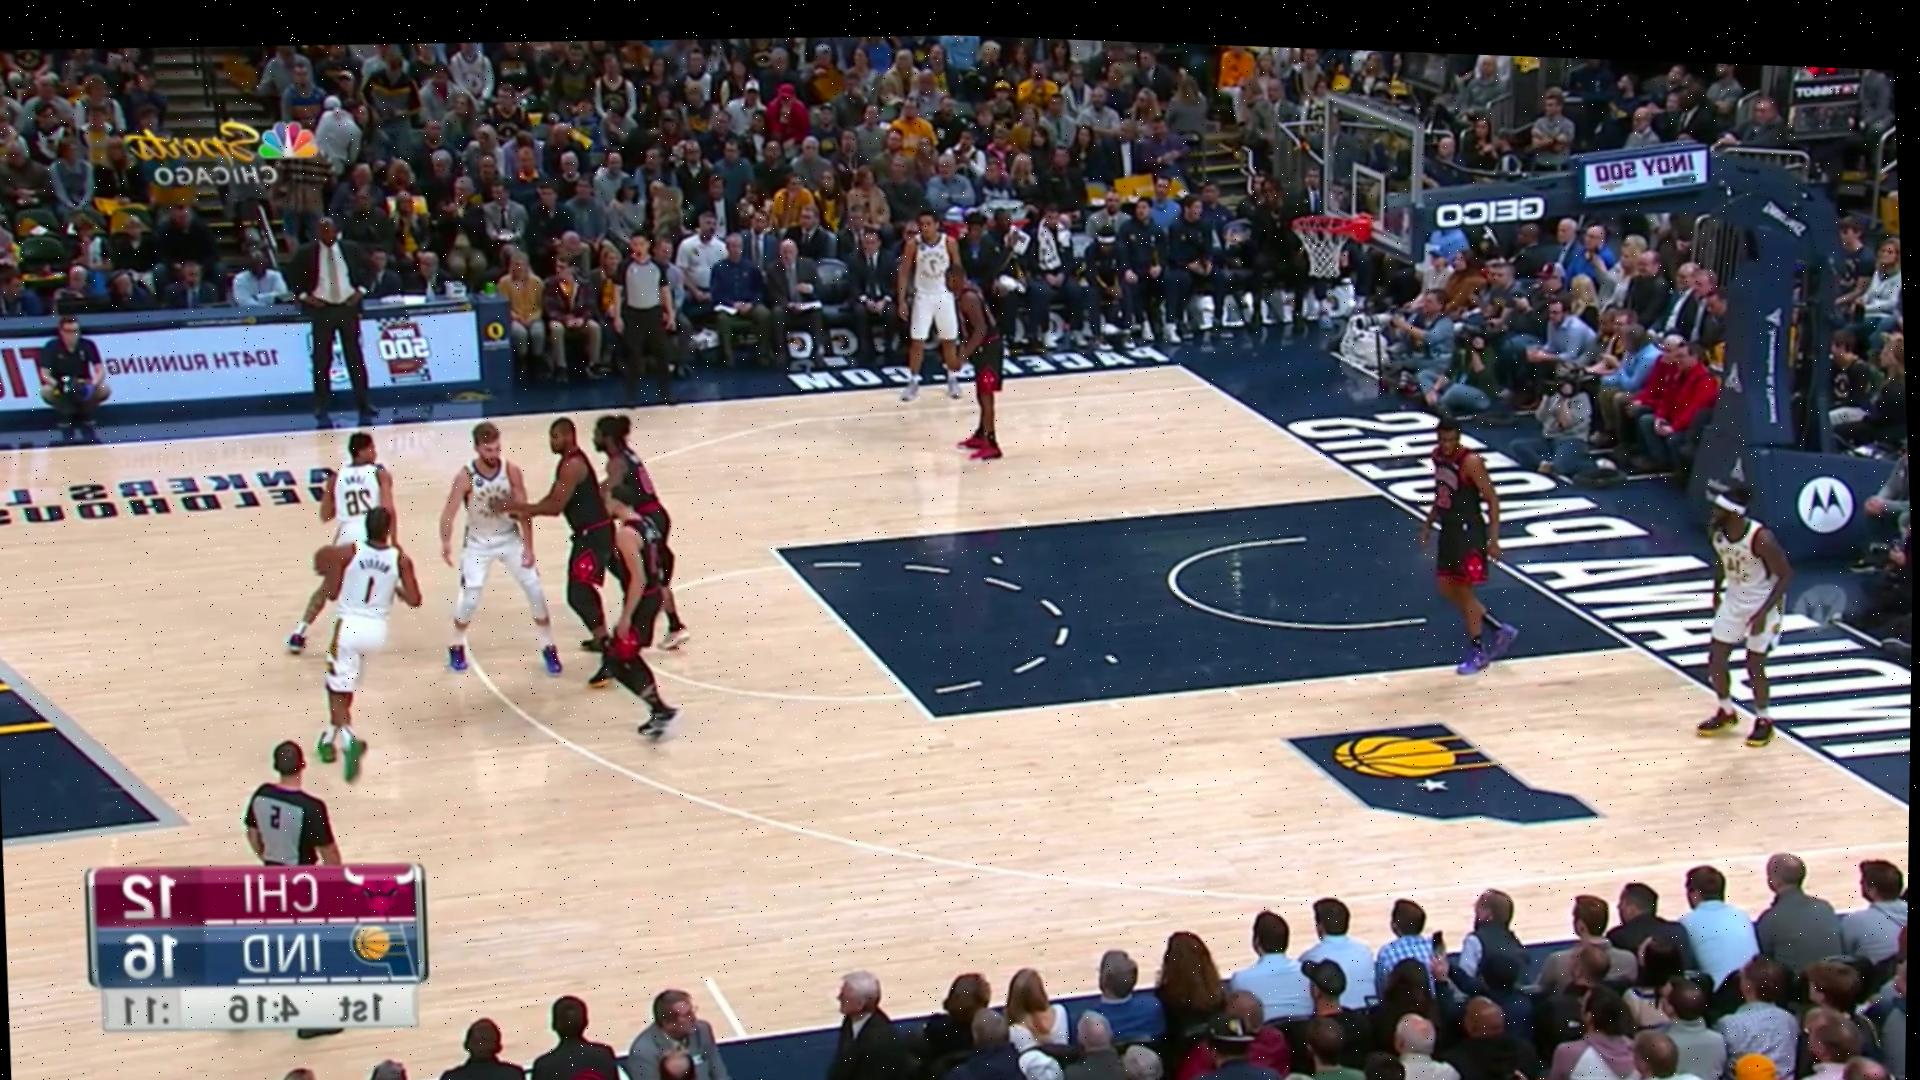no_foul: (433, 390, 604, 682)
